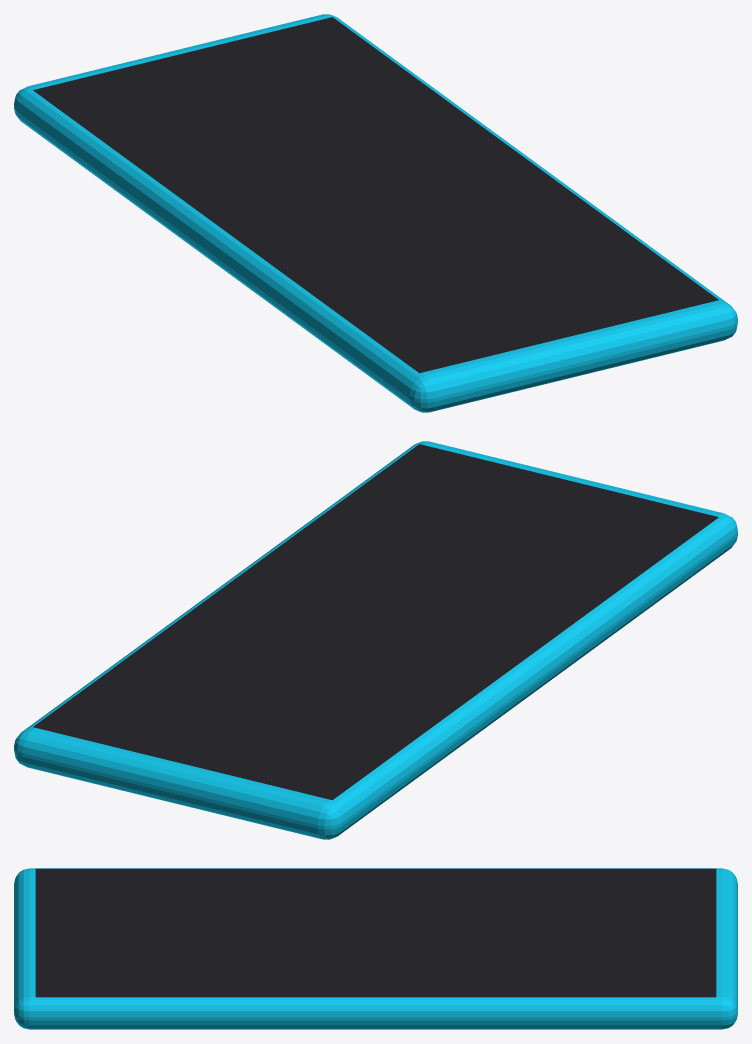
Rendered from tecno-pova-model-417-flagship-2021.glb.
The picture shows the model from 3 angles, top to bottom: view 1: azimuth 30°, elevation 25°; view 2: azimuth 150°, elevation 25°; view 3: azimuth 270°, elevation 25°; orthographic projection. The views are drawn at different scales.
Parts seen in each view (by area): view 1: Phone_Screen, Phone_Body; view 2: Phone_Screen, Phone_Body; view 3: Phone_Screen, Phone_Body.
Boxes of the visible parts, x1=… form: Phone_Screen: x1=33, y1=17, x2=718, y2=373; Phone_Body: x1=14, y1=14, x2=737, y2=412; Phone_Screen: x1=33, y1=444, x2=718, y2=800; Phone_Body: x1=14, y1=441, x2=737, y2=839; Phone_Screen: x1=35, y1=868, x2=716, y2=997; Phone_Body: x1=14, y1=868, x2=737, y2=1029.
Size of the model in its own units: 0.0745 by 0.0079 by 0.1629.
